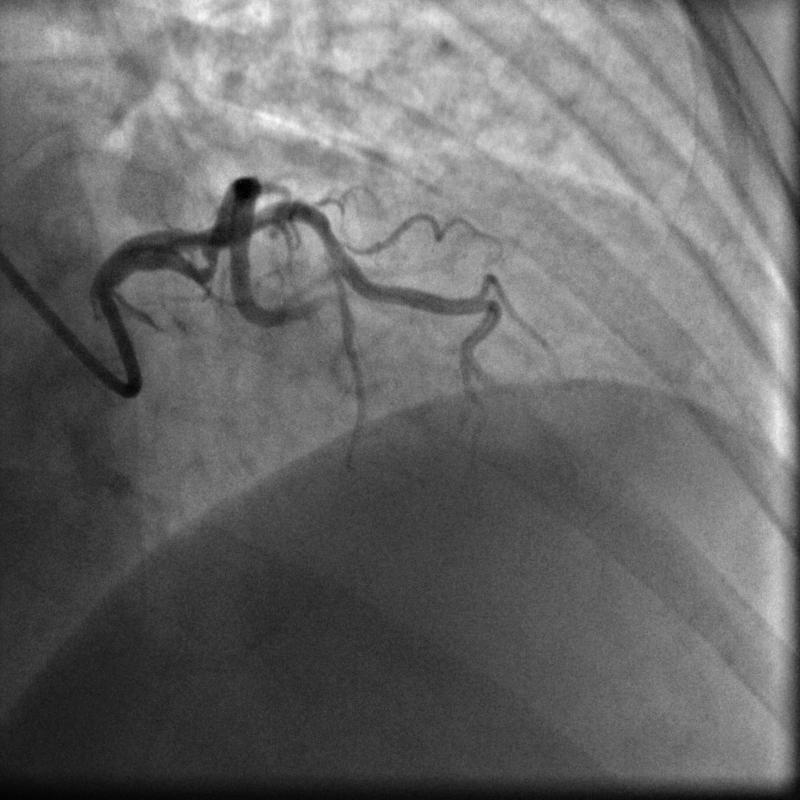Stenosis: (194, 248, 221, 285)
